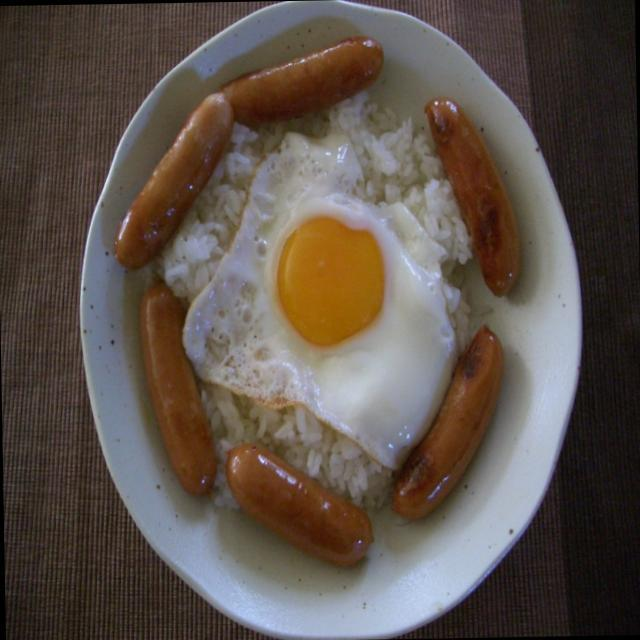Egg: (168, 131, 458, 472)
